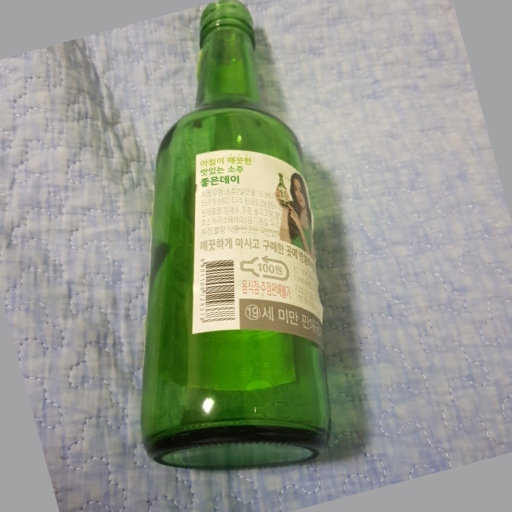Glass_0: (137, 1, 334, 471)
